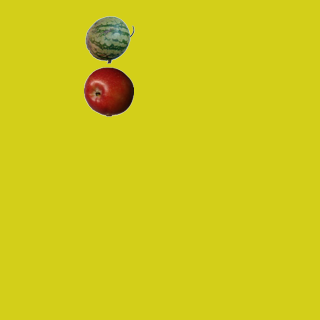Apple Braeburn: (83, 66, 133, 116)
Watermelon: (84, 14, 134, 64)
